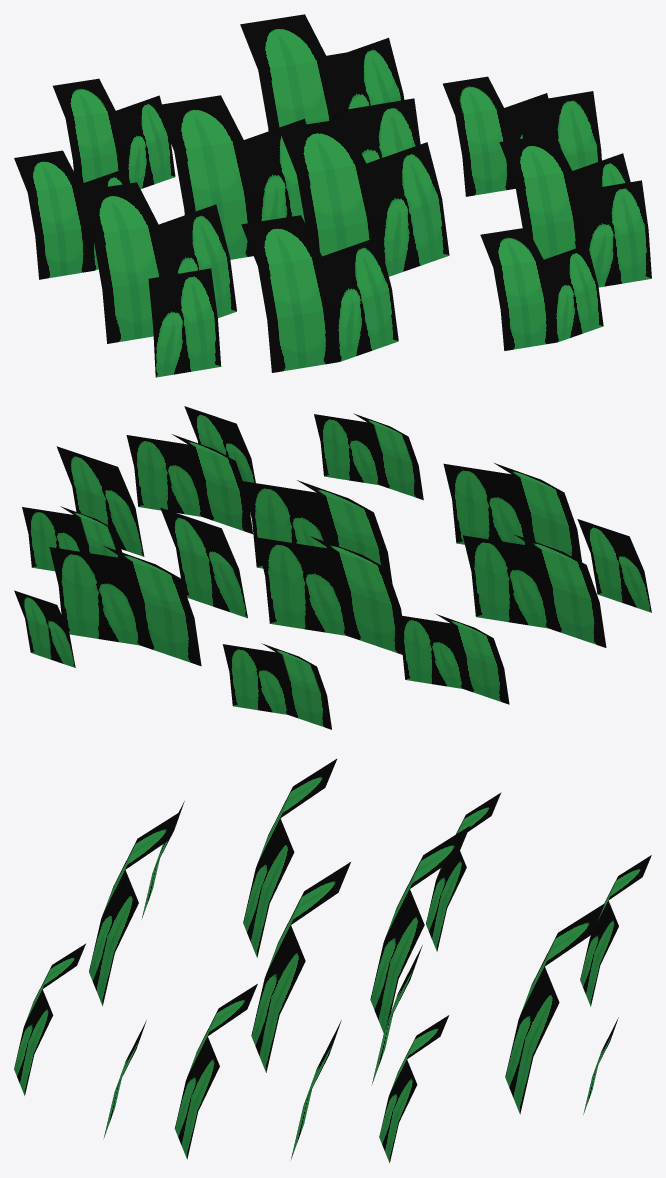
File: grass_1.gltf
3 views of the same model, one above another, from view 1: azimuth 30°, elevation 25°; view 2: azimuth 150°, elevation 25°; view 3: azimuth 270°, elevation 25° (orthographic). The views are drawn at different scales.
Visible parts, largest first — view 1: Grass1Mesh; view 2: Grass1Mesh; view 3: Grass1Mesh.
Part boxes in pixels (x1,y1,x2,y2): Grass1Mesh: [14, 14, 651, 377]; Grass1Mesh: [14, 406, 651, 729]; Grass1Mesh: [14, 759, 651, 1162].
Size of the model in its own units: 1.59 by 0.3904 by 1.55.
1 material, 1 textured.
